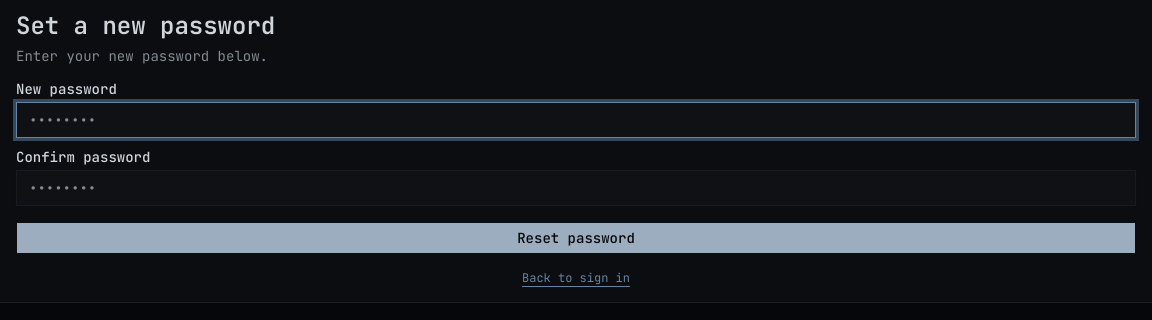
it: ResetPasswordPage › disables submit button while loading
Type "newpass123" into the password field labelled "New password" at x=576, y=120, box [16,102,1136,138]
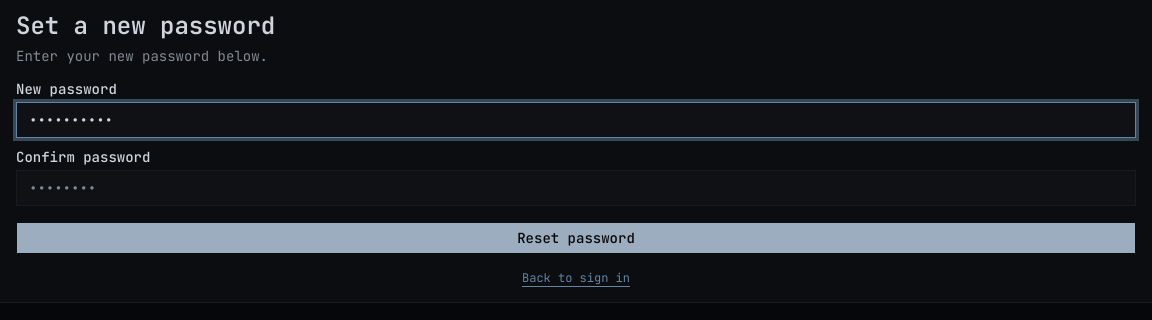
Type "newpass123" into the password field labelled "Confirm password" at x=576, y=188, box [16,170,1136,206]
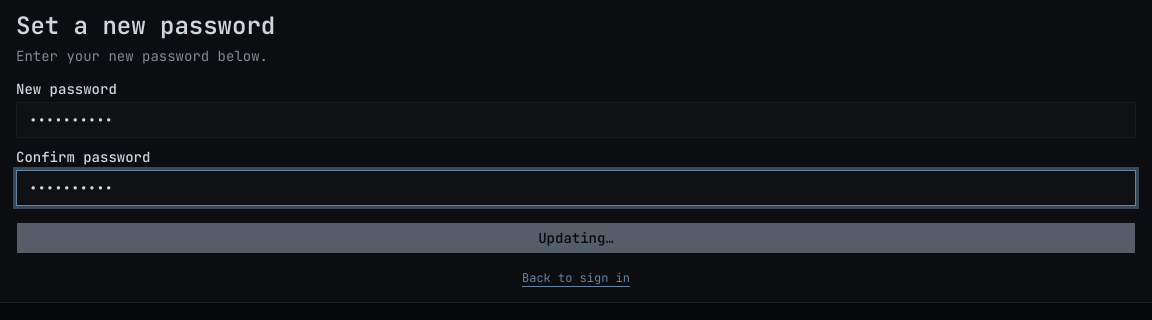
Now the button "Updating…" is disabled, box [16,222,1136,254]
